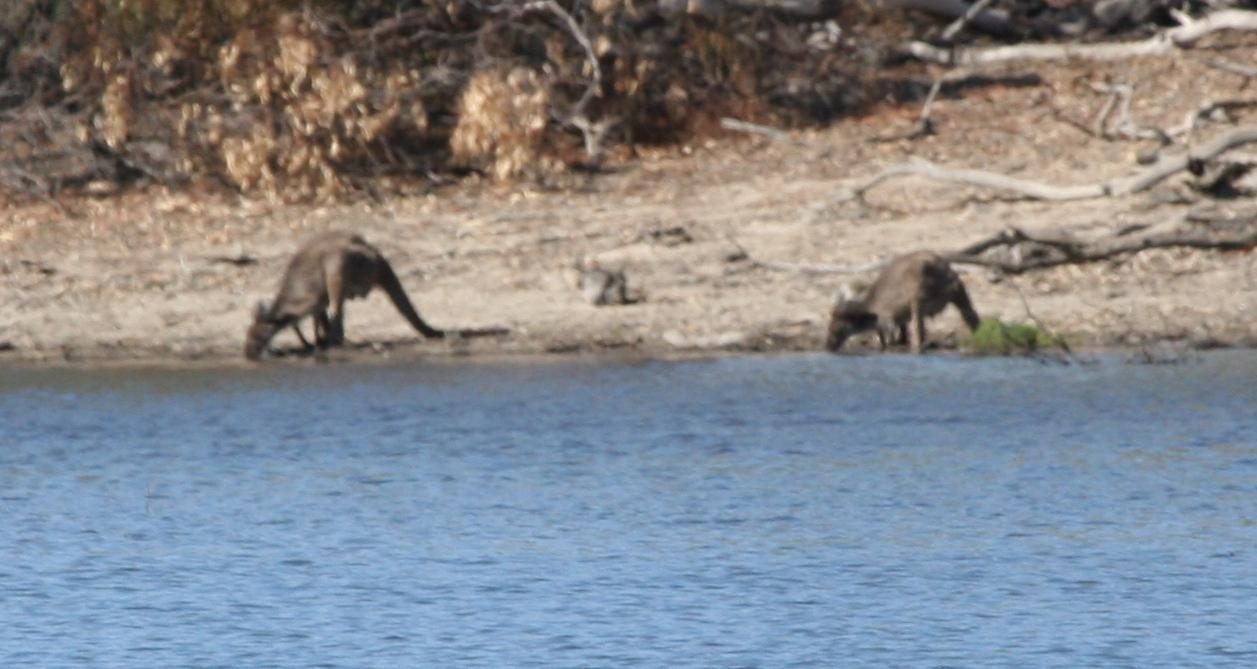Western grey kangaroo: (244, 232, 519, 366), (817, 249, 992, 361)
